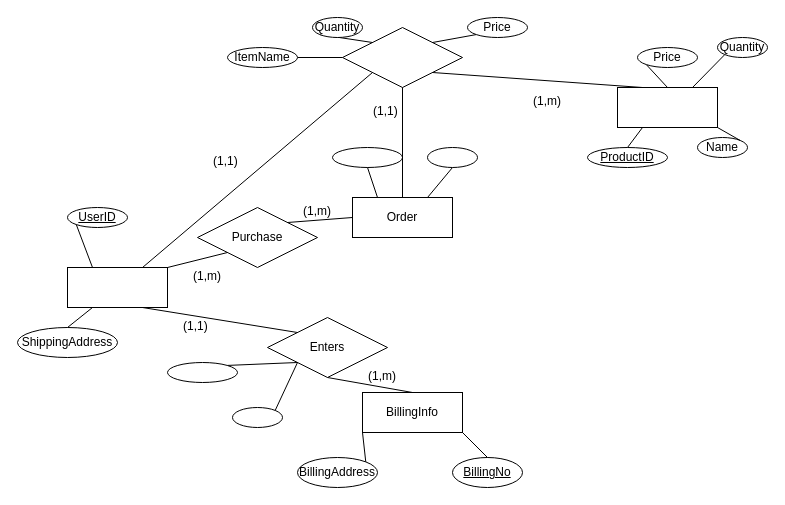
This 785x505 diagram has some shape labels left out. Here are the shapes that lost their labels. From the top down, the centre of each, then its label:
At point (402, 57): "ShoppingCart".
At point (667, 107): "Product".
At point (367, 157): "OrderNo".
At point (452, 157): "Status".
At point (117, 287): "User".
At point (202, 372): "CCNumber".
At point (257, 417): "CCName".
